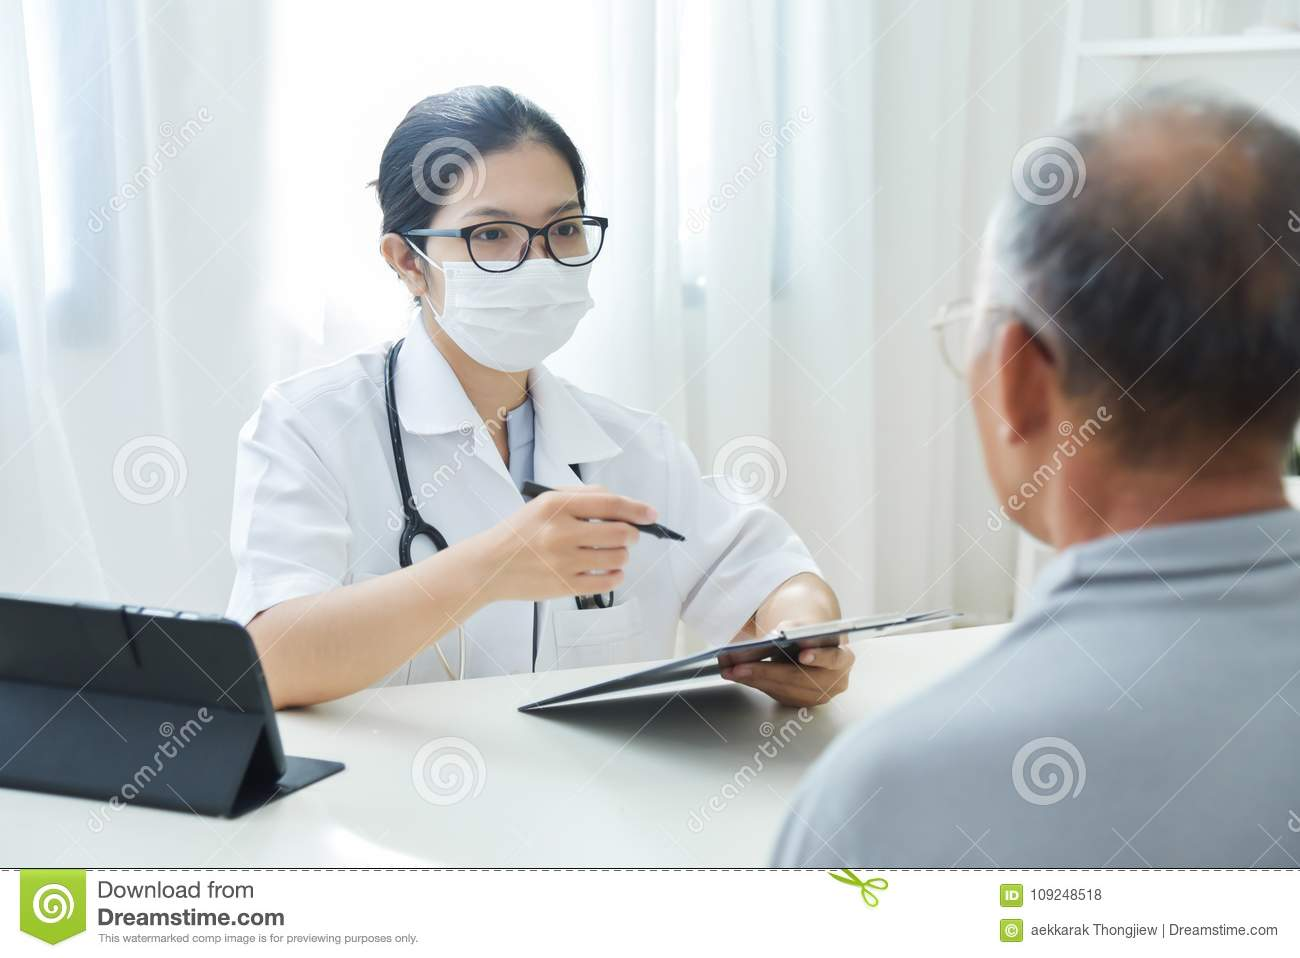mask: (436, 255, 594, 371)
